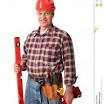hard hat: (33, 1, 56, 10)
